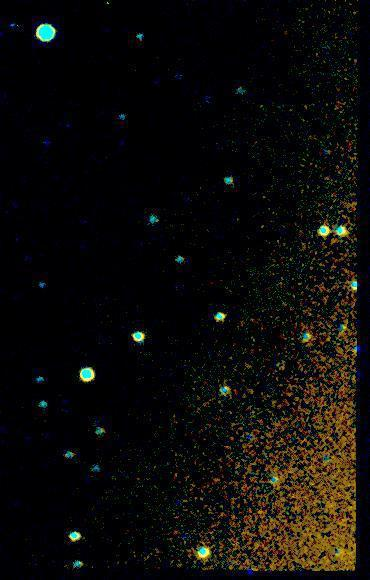star: (325, 315, 355, 345)
